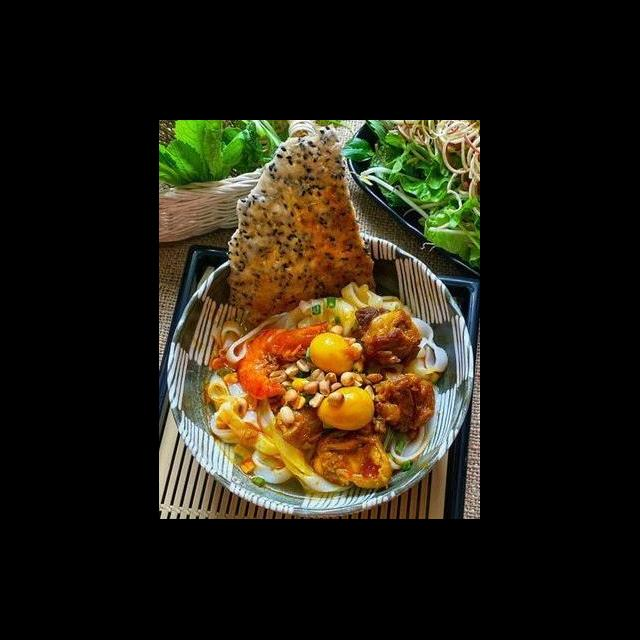banh da: (224, 121, 380, 318)
mi: (206, 373, 356, 498), (278, 280, 402, 336), (208, 308, 290, 366), (382, 412, 441, 473), (404, 316, 450, 384)
thit heo: (306, 419, 398, 494), (368, 370, 438, 446), (348, 304, 424, 371)
tom: (235, 318, 332, 402)
